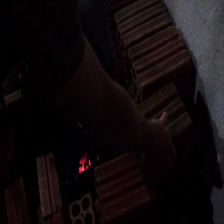fire_l: (78, 156, 91, 174)
